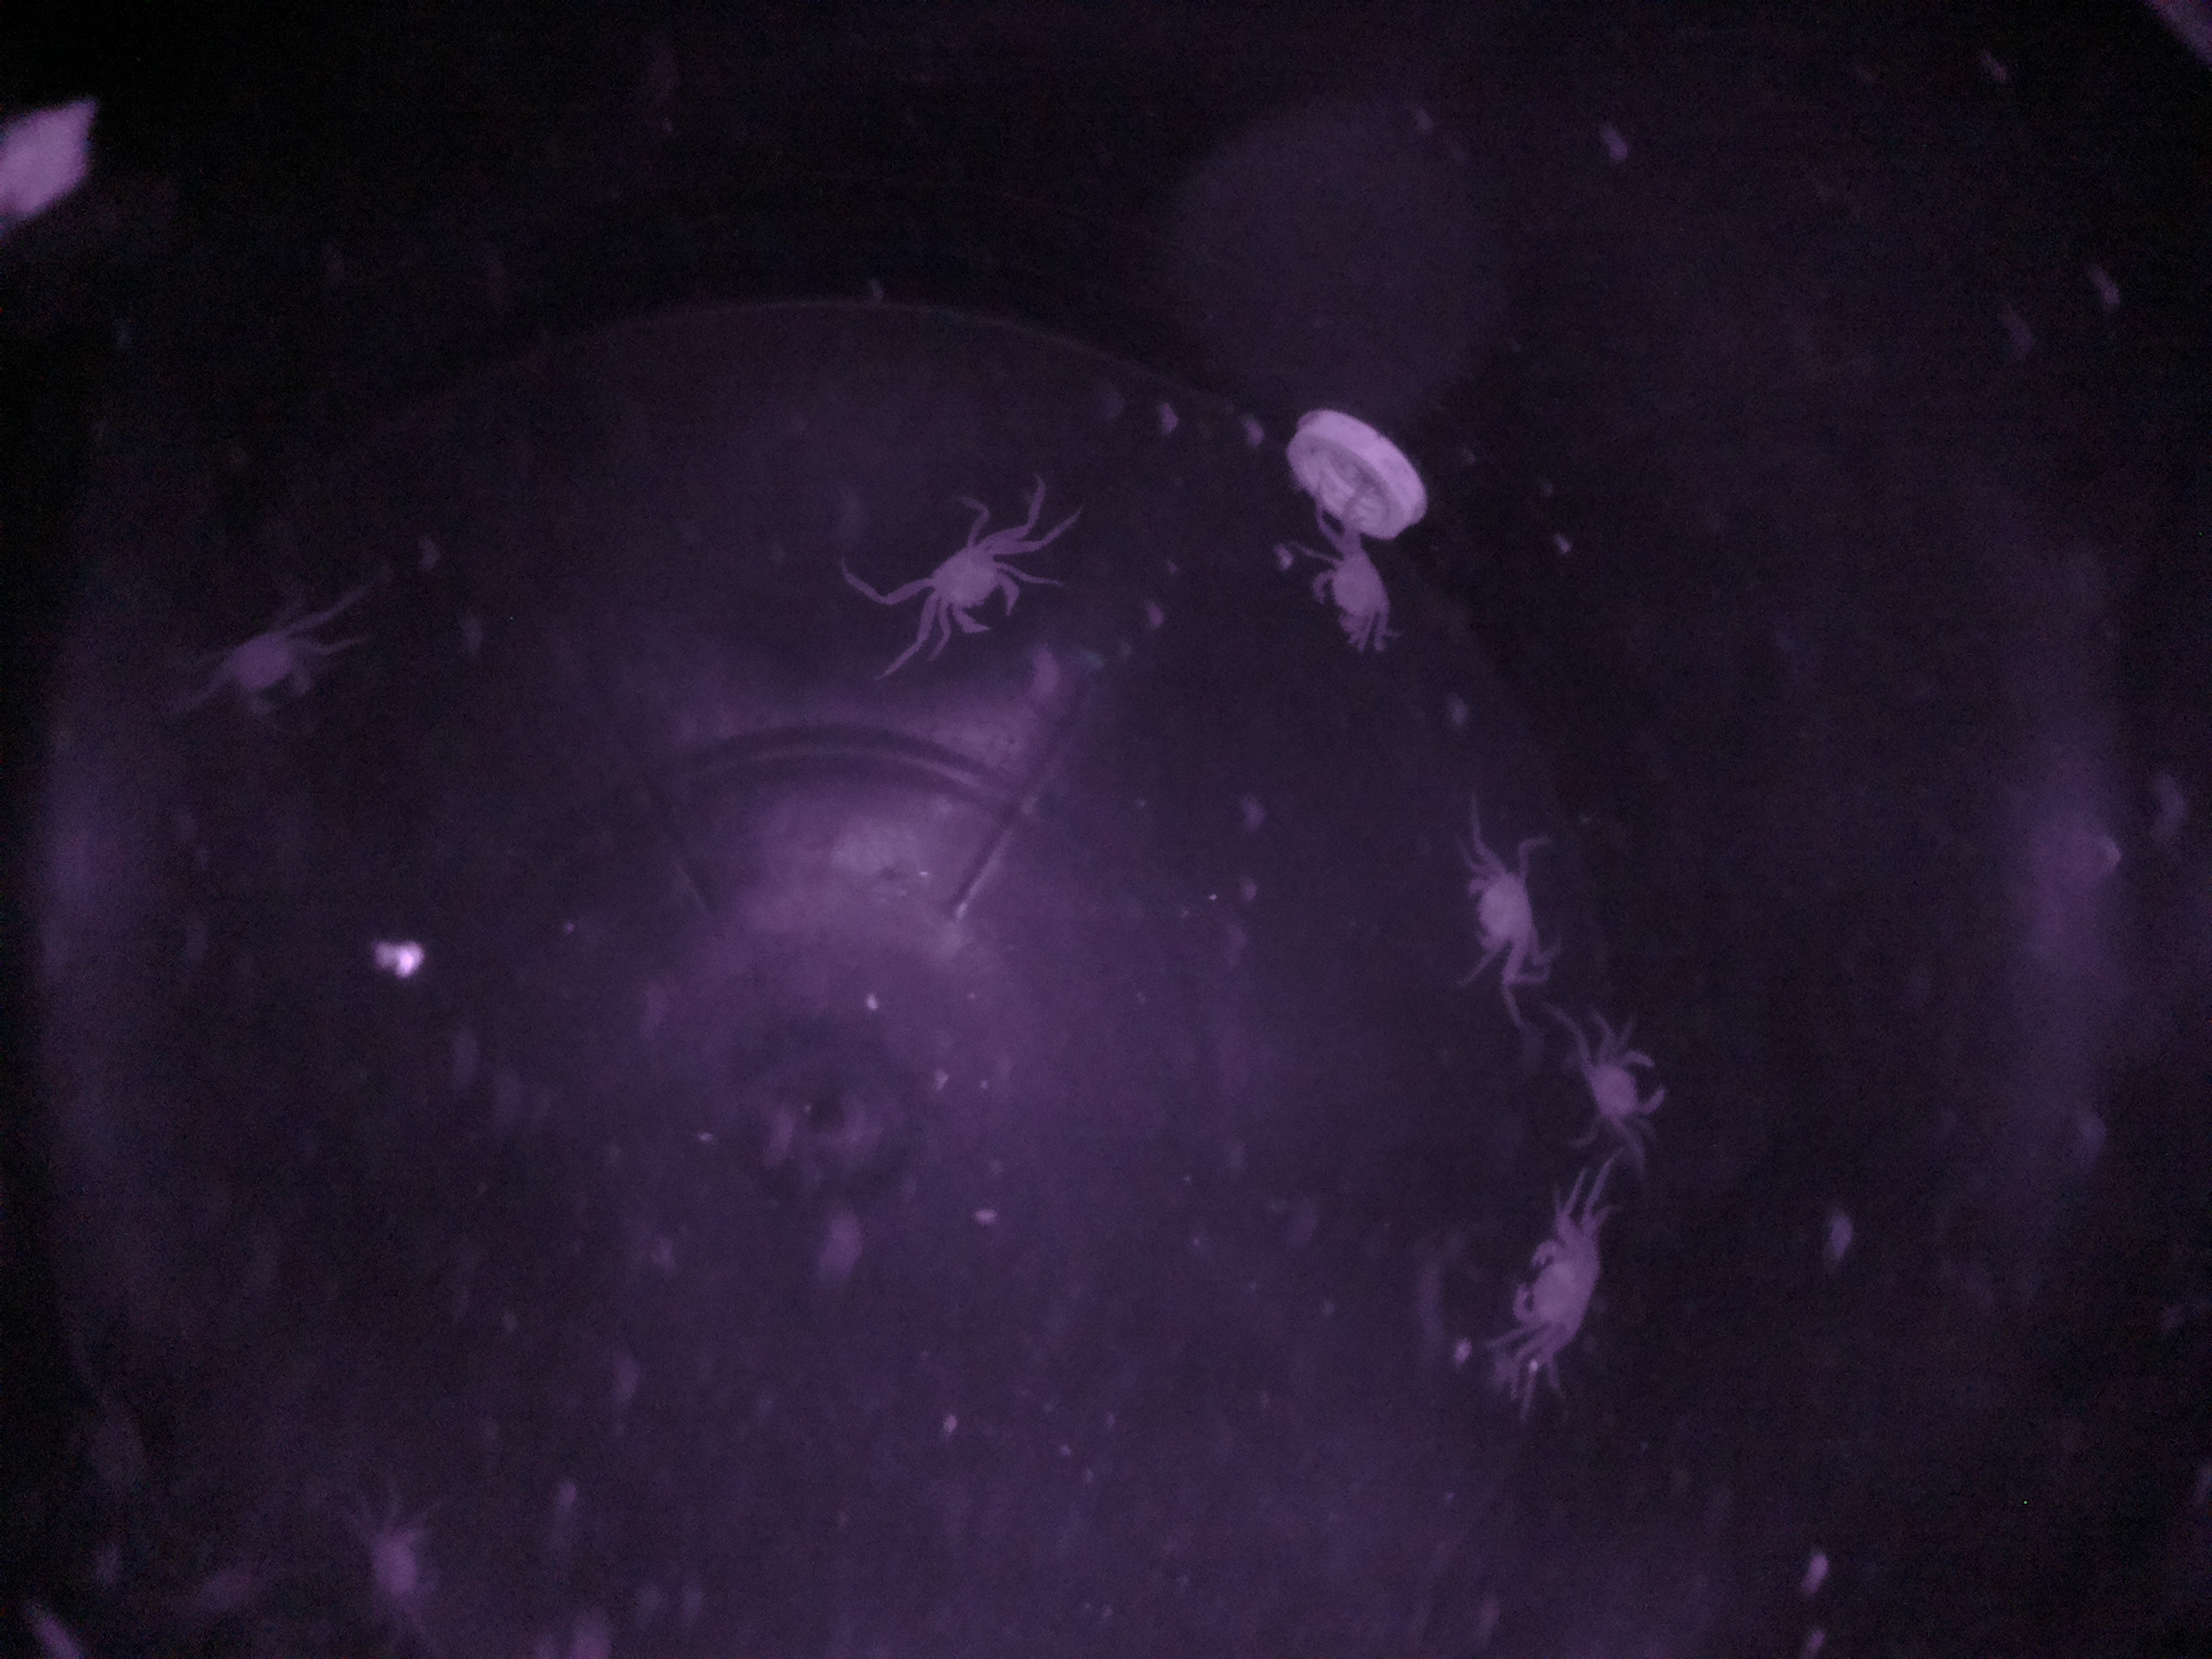Crab: (1480, 1215, 1623, 1373), (899, 516, 1040, 659), (1447, 835, 1573, 976), (1298, 521, 1411, 659), (1573, 1023, 1683, 1157)
